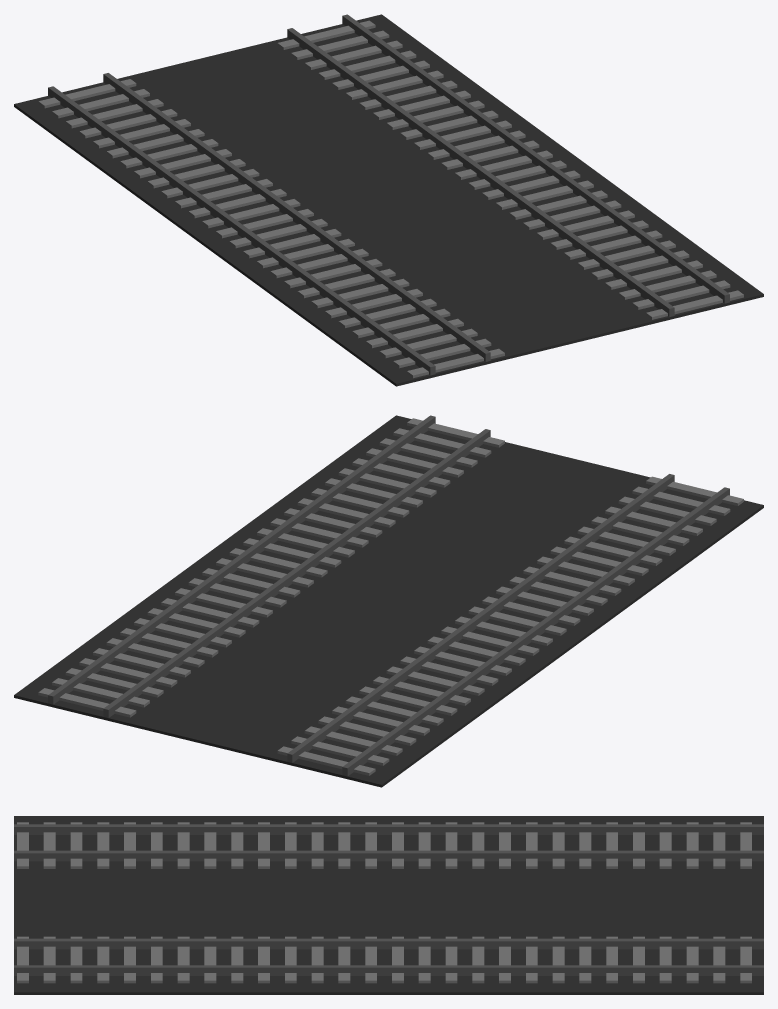
File: railway_track.obj
The picture shows the model from 3 angles, top to bottom: view 1: azimuth 30°, elevation 25°; view 2: azimuth 150°, elevation 25°; view 3: azimuth 270°, elevation 25°; orthographic projection.
Bounding box in the file's own units: 14 × 0.4 × 25.2.
Materials: 1 (1 with a texture image).
